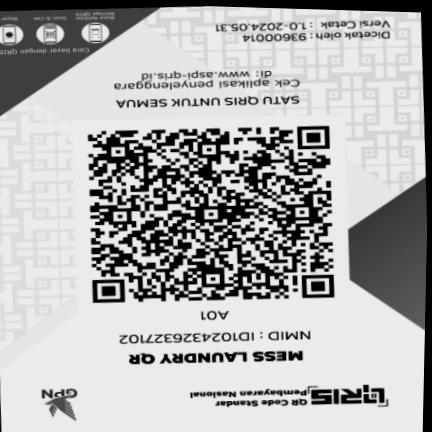Cara Pakai QRIS: (0, 10, 121, 57)
Cek Aplikasi Penyelenggara: (109, 67, 305, 92)
Dicetak Oleh: (239, 31, 401, 44)
Logo GPN: (27, 384, 92, 424)
Logo dan deskripsi QRIS: (180, 381, 393, 415)
Nama Merchant: (123, 347, 312, 370)
National Merchant ID: (107, 327, 322, 348)
QR Code: (76, 120, 343, 308)
Slogan: (110, 91, 305, 111)
Terminal ID: (190, 309, 236, 323)
Versi Cetak: (213, 18, 401, 33)
